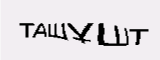М: (104, 22, 117, 43)
С: (69, 24, 90, 51), (115, 18, 127, 41)
Х: (90, 21, 103, 47)
Щ: (32, 22, 66, 52)
